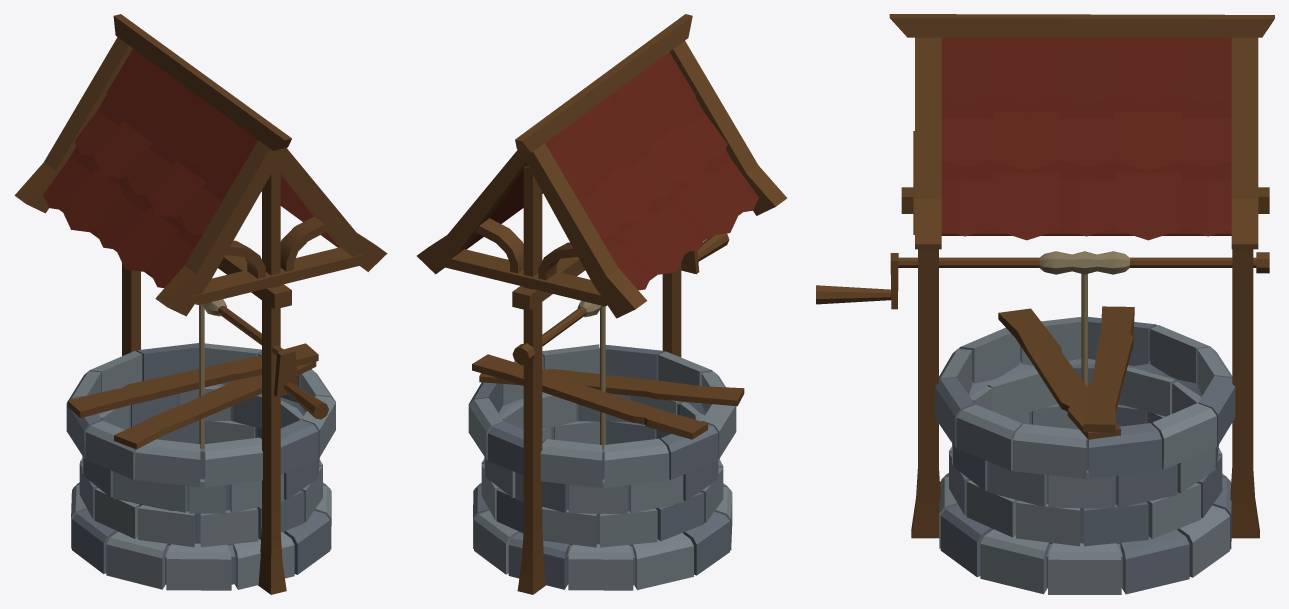
Rendered from Well.glb.
3 views of the same model, side by side, from view 1: azimuth 30°, elevation 25°; view 2: azimuth 150°, elevation 25°; view 3: azimuth 270°, elevation 25° (orthographic). The views are drawn at different scales.
Visible parts, largest first — view 1: Well; view 2: Well; view 3: Well.
Part boxes in pixels (box(x1,y1,x2,y2)): Well: box(14, 14, 387, 594); Well: box(417, 14, 787, 594); Well: box(816, 14, 1274, 594).
Size of the model in its own units: 0.6664 by 1.25 by 1.
